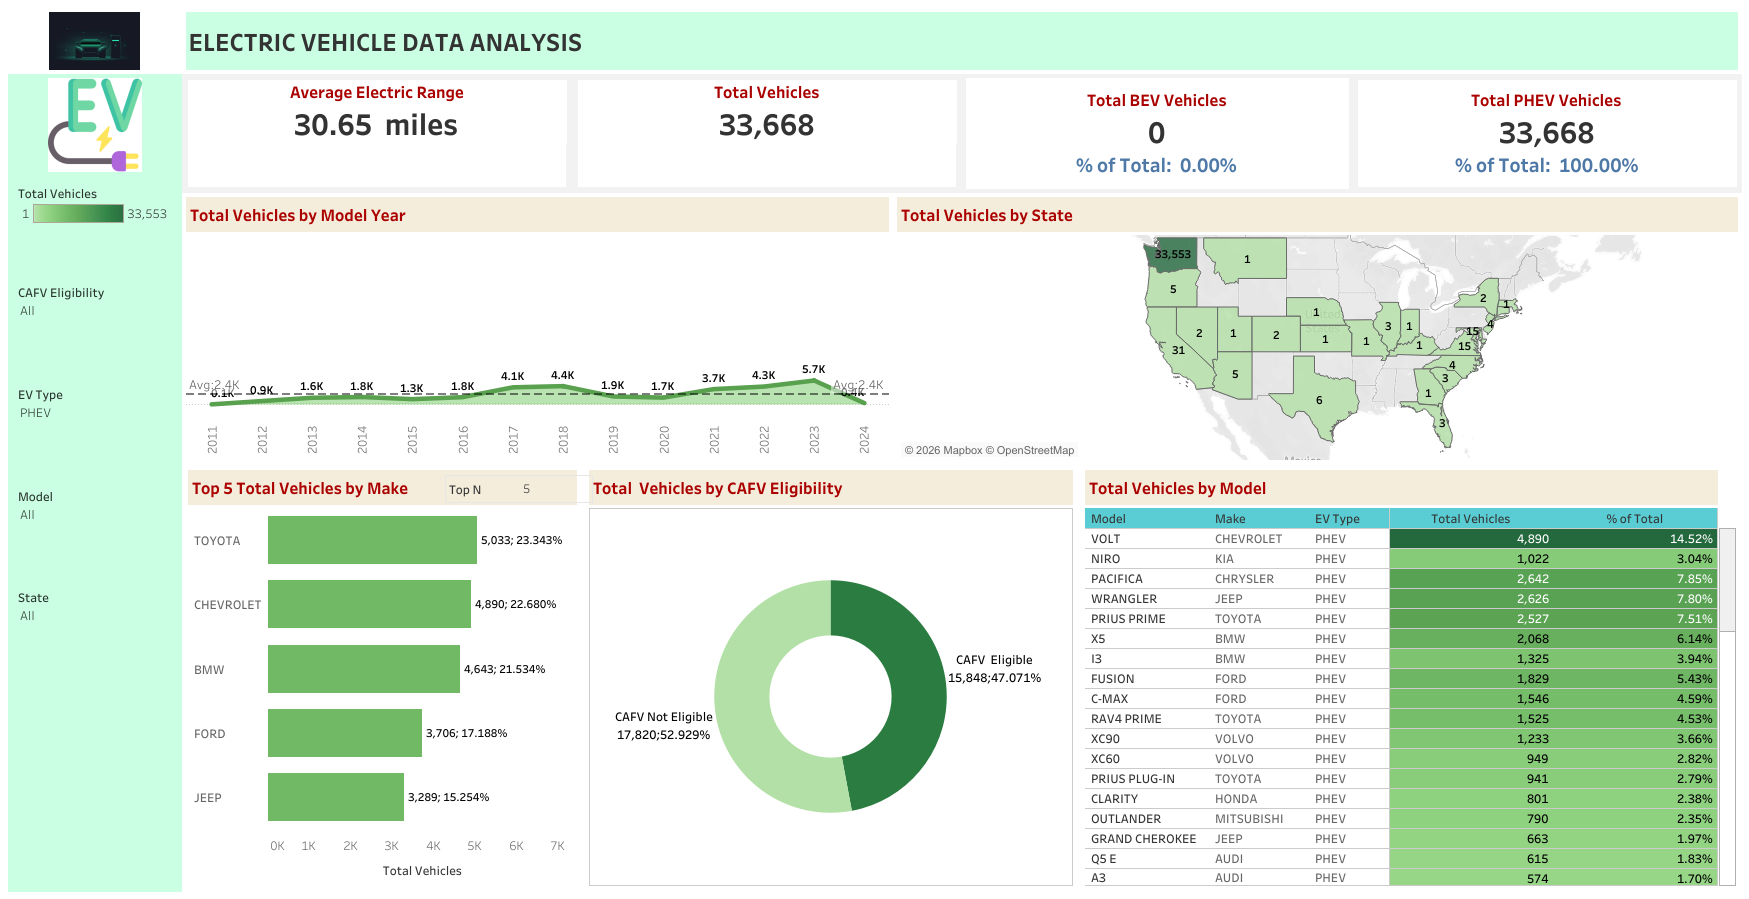

What the dashboard file says about the page in this screenshot:
{"tool":"tableau","page":{"name":"Dashboard 1","canvas":[1000,1000],"units":"permille","ordinal":0},"visuals":[{"type":"image","param":"Image/EV.jpg","box":[5,8.9,99.4,73.3]},{"type":"title","box":[104.4,8.9,890.6,73.3]},{"type":"image","param":"Image/images.png","box":[8.8,82.2,91.9,113.3]},{"type":"worksheet","title":"Average Electric Range","mark":"Automatic","box":[104.4,82.2,223.1,132.2]},{"type":"worksheet","title":"Total Vehicles","mark":"Automatic","box":[327.5,82.2,222.5,132.2]},{"type":"worksheet","title":"Total BEV Vehicles","mark":"Automatic","box":[550,82.2,222.5,132.2]},{"type":"worksheet","title":"Total PHEV Vehicles","mark":"Automatic","box":[772.5,82.2,222.5,132.2]},{"type":"legend","title":"Total Vehicles by State","param":"[federated.07c68sj0bigr631bh2vrx0qi7p36].[usr:Calculation_1705116403486720:qk]","box":[8.8,195.6,91.9,113.3]},{"type":"worksheet","title":"Total Vehicles by Model Year","mark":"Area","rows":["Calculation_1705116403486720","Calculation_1705116403486720"],"cols":["Model Year"],"box":[104.4,214.4,444.4,301.1]},{"type":"worksheet","title":"Total Vehicles by State","mark":"Multipolygon","box":[548.8,214.4,446.2,301.1]},{"type":"filter","title":"Total Vehicles by Model Year","param":"[federated.07c68sj0bigr631bh2vrx0qi7p36].[none:Clean Alternative Fuel Vehicle (C","box":[8.8,308.9,91.9,113.3]},{"type":"filter","title":"Total Vehicles by Model Year","param":"[federated.07c68sj0bigr631bh2vrx0qi7p36].[none:Electric Vehicle Type:nk]","box":[8.8,422.2,91.9,113.3]},{"type":"worksheet","title":"Top 10 Total Vehicles by Make","mark":"Automatic","rows":["Make"],"cols":["Calculation_1705116403486720"],"box":[104.4,515.5,250.6,475.6]},{"type":"worksheet","title":"Total  Vehicles by CAFV Eligibility","mark":"Pie","rows":["Calculation_1705116445356040","Calculation_1705116445356040"],"box":[355,515.5,225.6,475.6]},{"type":"worksheet","title":"Total Vehicles by Model","mark":"Square","rows":["Model","Make","Electric Vehicle Type"],"box":[580.6,515.5,414.4,475.6]},{"type":"parameter","param":"[Parameters].[Parameter 1]","box":[254.4,527.8,84.4,31.1]},{"type":"filter","title":"Total Vehicles by Model Year","param":"[federated.07c68sj0bigr631bh2vrx0qi7p36].[none:Model:nk]","box":[8.8,535.6,91.9,112.2]},{"type":"filter","title":"Total Vehicles by Model Year","param":"[federated.07c68sj0bigr631bh2vrx0qi7p36].[none:State:nk]","box":[8.8,647.8,91.9,112.2]},{"type":"blank","box":[8.8,760,91.9,112.2]},{"type":"blank","box":[8.8,872.2,91.9,112.2]}]}

Visuals, with their boxes on the dashboard's canvas, which has no fixed pixel size, in thousandths of its width and height (x1, y1, x2, y2). These are canvas units, not pixel positions in the 1749x899 screenshot, which may show the page scaled, cropped or inside an application window:
image: <box>5,9,104,82</box>
title: <box>104,9,995,82</box>
image: <box>9,82,101,196</box>
"Average Electric Range" worksheet: <box>104,82,328,214</box>
"Total Vehicles" worksheet: <box>328,82,550,214</box>
"Total BEV Vehicles" worksheet: <box>550,82,772,214</box>
"Total PHEV Vehicles" worksheet: <box>772,82,995,214</box>
"Total Vehicles by State" legend: <box>9,196,101,309</box>
"Total Vehicles by Model Year" worksheet (Area marks): <box>104,214,549,516</box>
"Total Vehicles by State" worksheet (Multipolygon marks): <box>549,214,995,516</box>
"Total Vehicles by Model Year" filter: <box>9,309,101,422</box>
"Total Vehicles by Model Year" filter: <box>9,422,101,536</box>
"Top 10 Total Vehicles by Make" worksheet: <box>104,516,355,991</box>
"Total  Vehicles by CAFV Eligibility" worksheet (Pie marks): <box>355,516,581,991</box>
"Total Vehicles by Model" worksheet (Square marks): <box>581,516,995,991</box>
parameter: <box>254,528,339,559</box>
"Total Vehicles by Model Year" filter: <box>9,536,101,648</box>
"Total Vehicles by Model Year" filter: <box>9,648,101,760</box>
blank: <box>9,760,101,872</box>
blank: <box>9,872,101,984</box>
